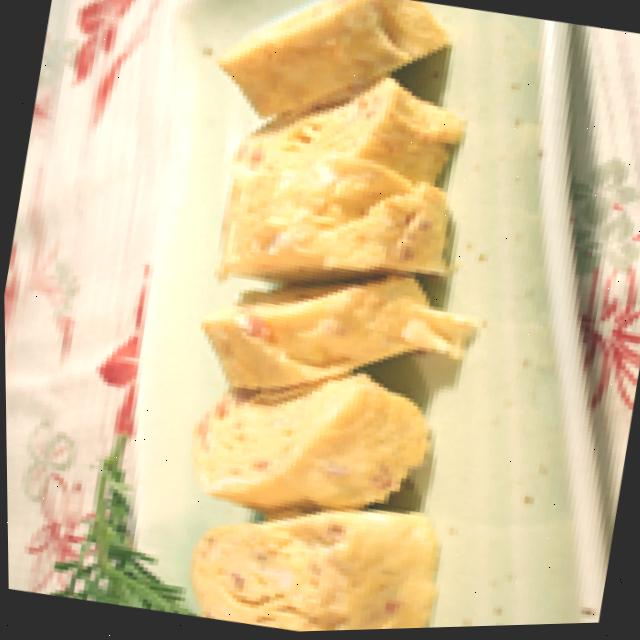鸡蛋料理: (122, 0, 538, 637)
